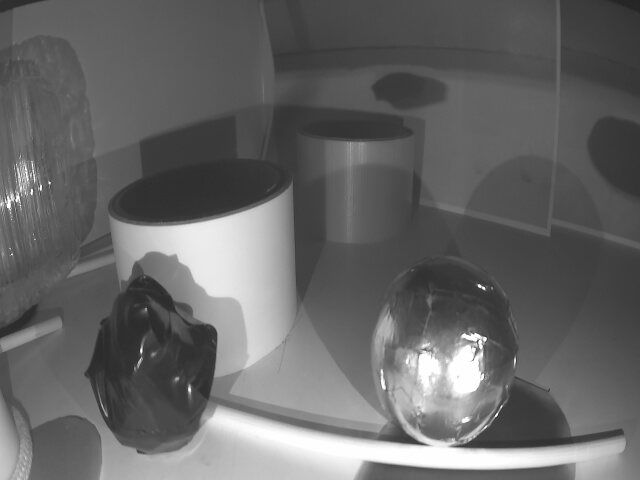Dead: (91, 283, 224, 455)
Live: (370, 261, 519, 452)
